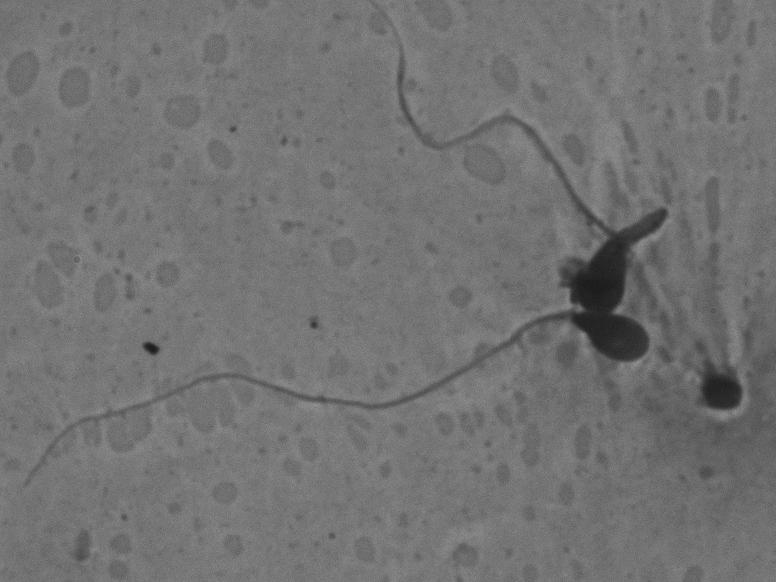Abnormal: (5, 298, 661, 502), (343, 20, 684, 316)
